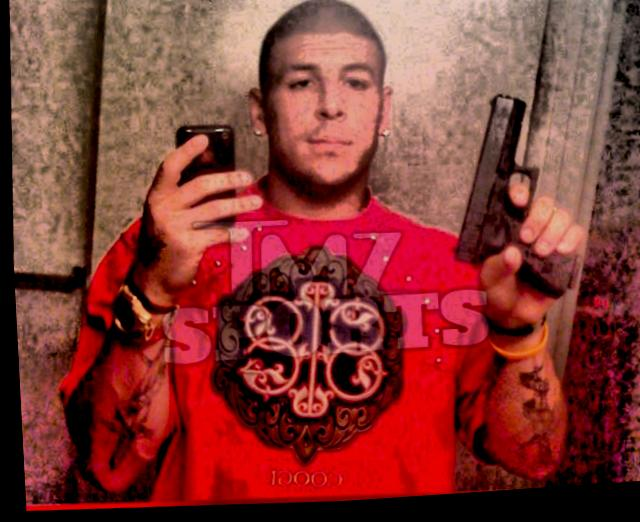pistol: (430, 86, 589, 320)
